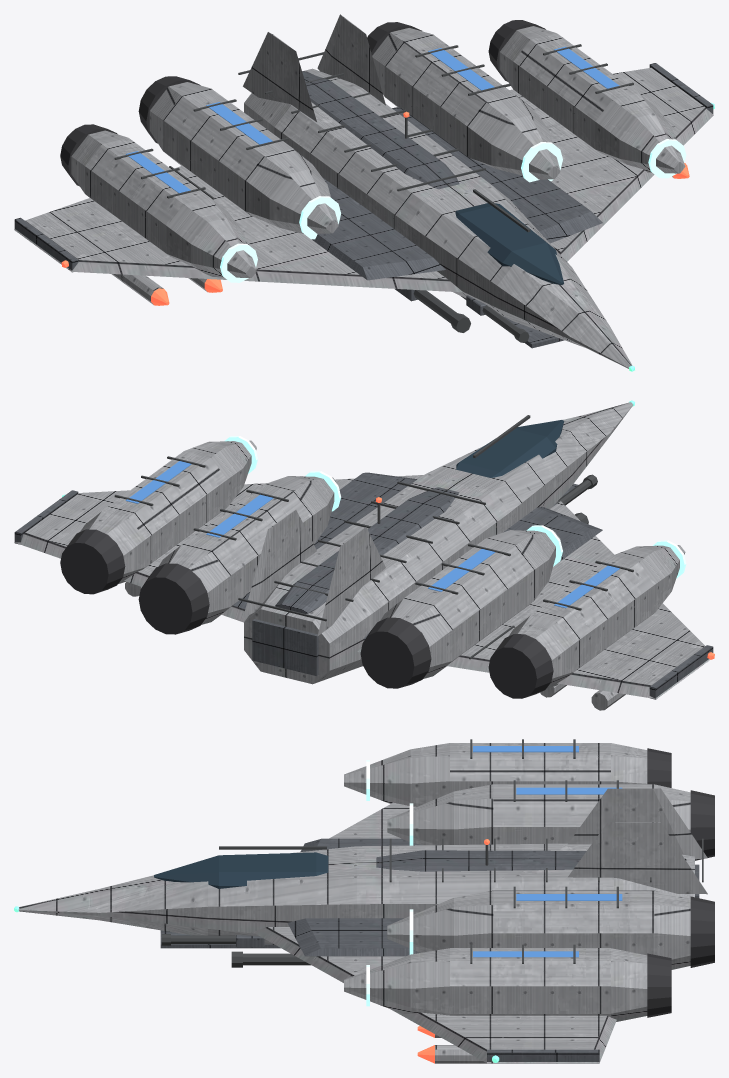
File: hammer.glb
3 views of the same model, one above another, from view 1: azimuth 30°, elevation 25°; view 2: azimuth 150°, elevation 25°; view 3: azimuth 270°, elevation 25° (orthographic).
Visible parts, largest first — view 1: hammer; view 2: hammer; view 3: hammer.
Part boxes in pixels (x1,y1,x2,y2): hammer: [14, 14, 714, 371]; hammer: [14, 400, 714, 710]; hammer: [14, 739, 714, 1063].
Bounding box in the file's own units: 8.53 × 1.7 × 8.08.
9 materials, 2 textured.
